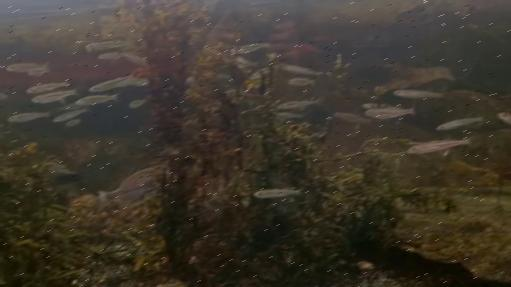Fish: (98, 166, 163, 203), (89, 76, 149, 91), (407, 139, 469, 153), (43, 163, 79, 182), (90, 76, 131, 91), (31, 90, 77, 103), (436, 117, 483, 129), (365, 107, 414, 118), (52, 107, 87, 121), (278, 98, 321, 109), (25, 82, 67, 93), (85, 41, 130, 51), (77, 94, 117, 105), (280, 64, 322, 74), (393, 90, 444, 98), (334, 112, 371, 123), (5, 63, 47, 72), (233, 43, 270, 53), (254, 189, 300, 197), (8, 112, 48, 121), (121, 77, 149, 86), (234, 56, 256, 67), (126, 54, 146, 65), (249, 68, 268, 79), (55, 102, 79, 110), (287, 78, 314, 85), (98, 52, 125, 59), (26, 68, 49, 76), (362, 103, 396, 108), (276, 112, 303, 118), (64, 119, 80, 128), (128, 99, 145, 107), (218, 73, 232, 82), (498, 112, 510, 122), (185, 76, 195, 85), (0, 93, 7, 99)
